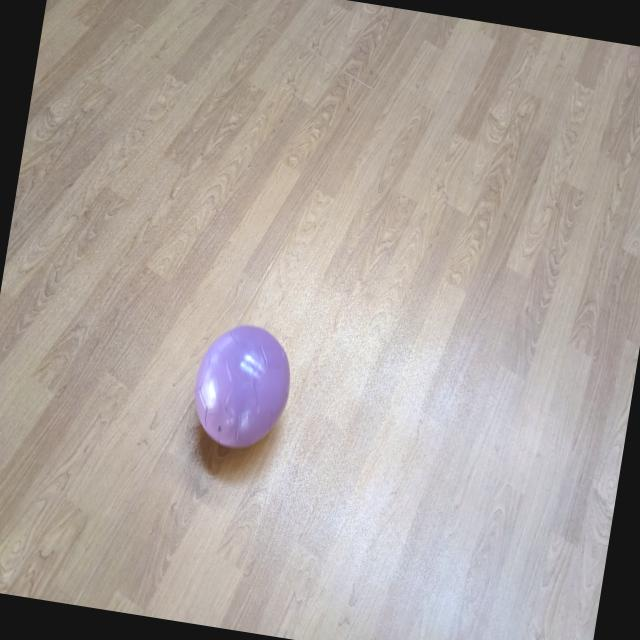purple_ball: (184, 314, 301, 458)
